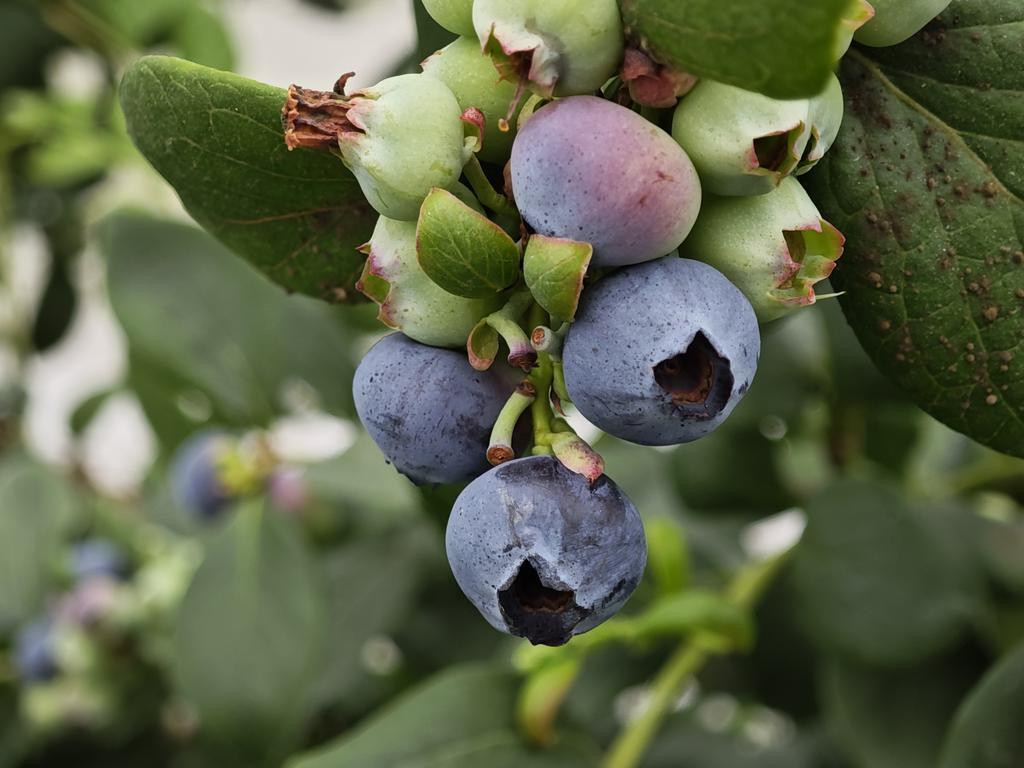RipeBlueBerry: (442, 449, 655, 650), (559, 249, 767, 452), (350, 333, 518, 493)
Semi-RipeBlueBerry: (507, 92, 706, 270)
